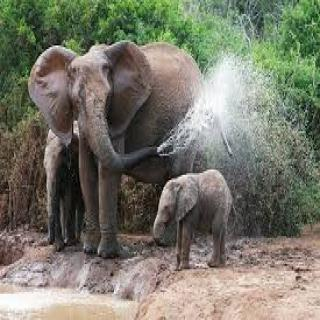Elephant: (24, 33, 238, 268), (152, 168, 248, 283), (32, 107, 88, 250)
